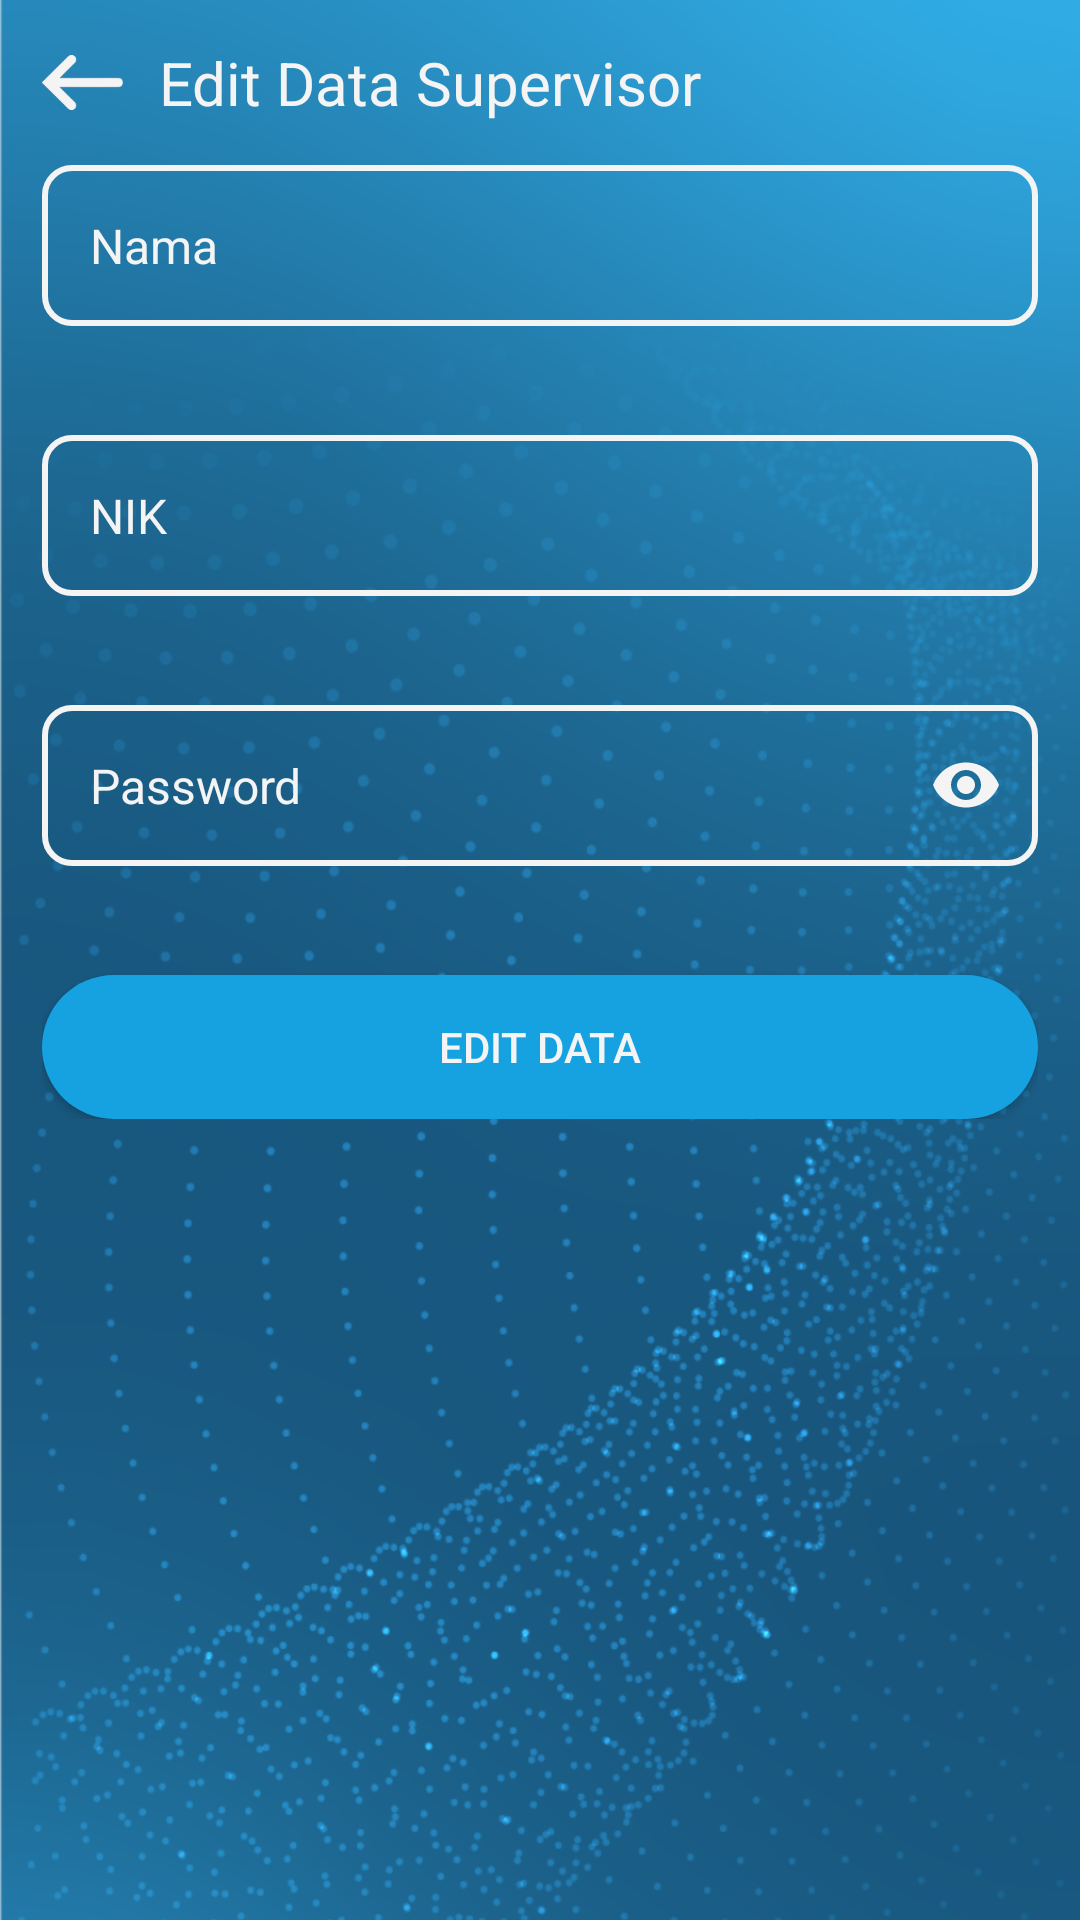

Screen size 1080x1920. Icon name, then its box in pixels as (x1, y1, x2, y2):
back: (42, 55, 123, 110)
